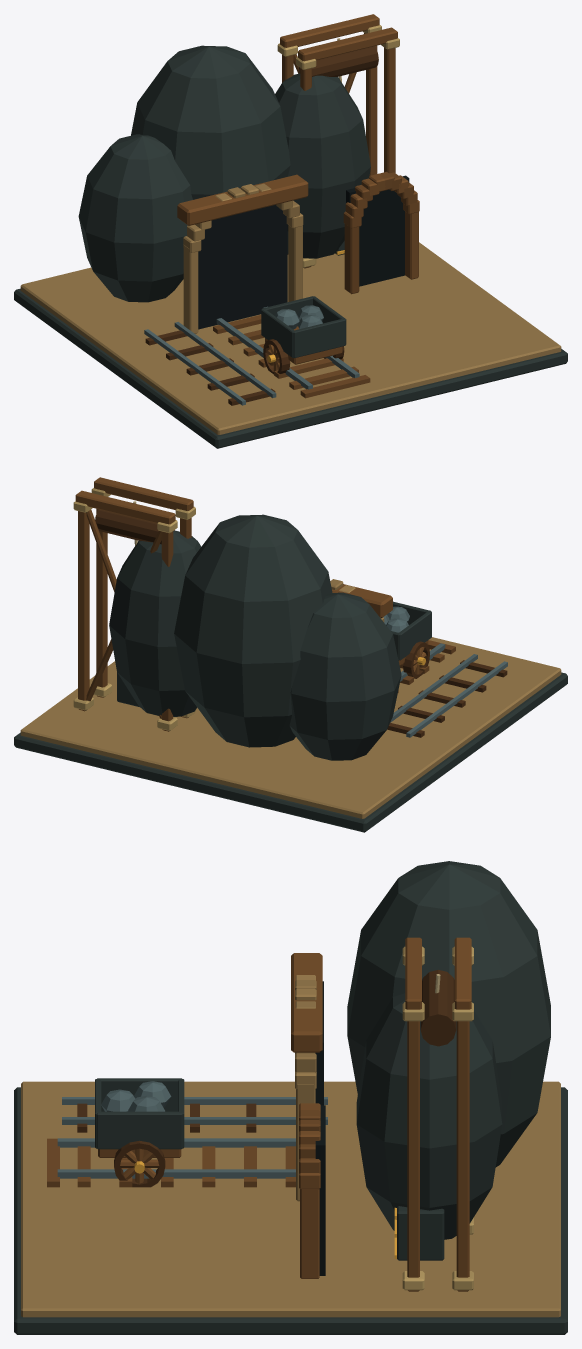
3 views of the same model, one above another, from view 1: azimuth 30°, elevation 25°; view 2: azimuth 150°, elevation 25°; view 3: azimuth 270°, elevation 25° (orthographic). The views are drawn at different scales.
Visible parts, largest first — view 1: mine_5_structure; view 2: mine_5_structure; view 3: mine_5_structure.
Part boxes in pixels (left/top/right/bottom): mine_5_structure: left=14, top=14, right=567, bottom=448; mine_5_structure: left=14, top=477, right=567, bottom=832; mine_5_structure: left=14, top=861, right=567, bottom=1334.
Bounding box in the file's own units: 5.6 × 3.78 × 5.6.
